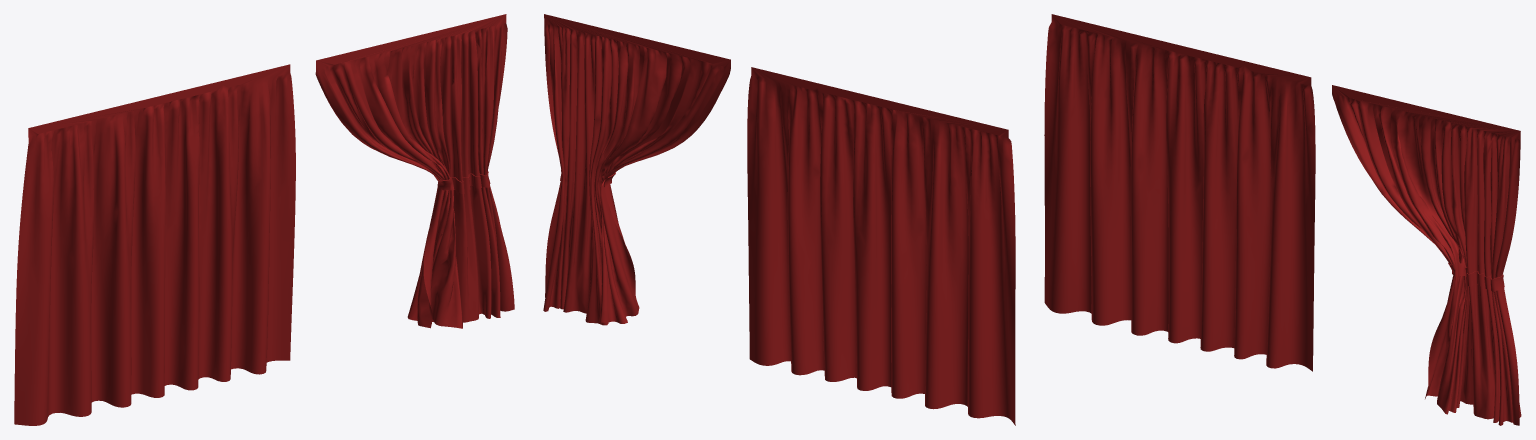
Rendered from curtain.glb.
3 renders of one model, left to right at view 1: azimuth 30°, elevation 25°; view 2: azimuth 150°, elevation 25°; view 3: azimuth 330°, elevation 25°, orthographic.
Size of the model in its own units: 4.38 by 2.54 by 0.4879.
